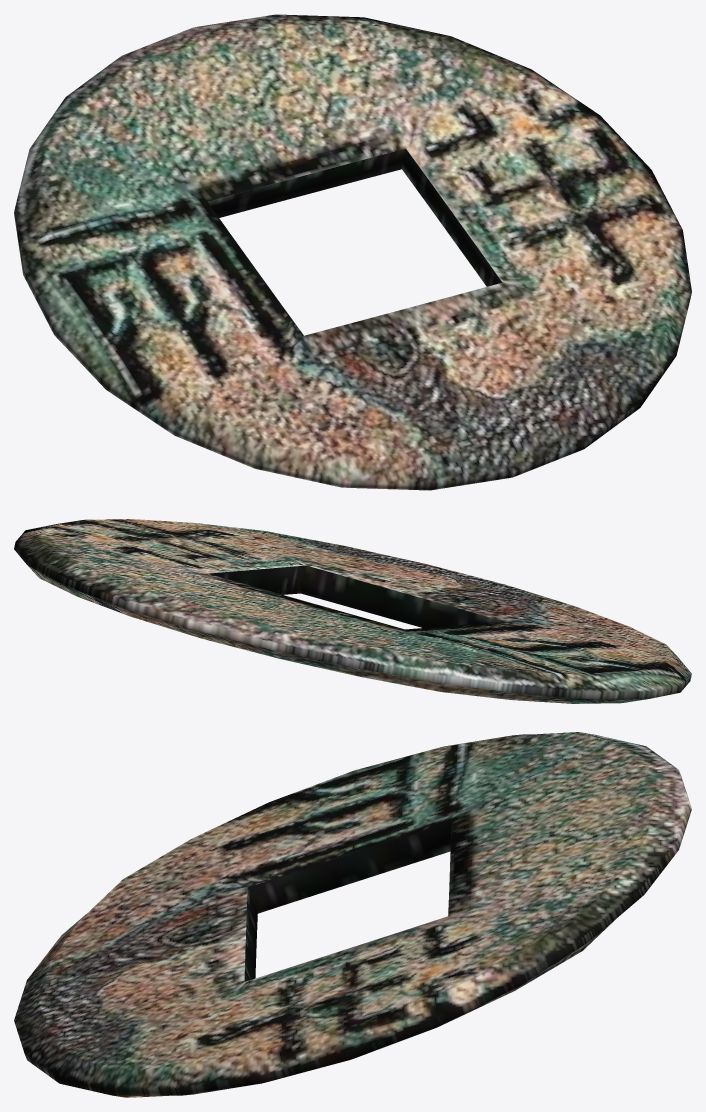
File: banliangqian.glb
3 views of the same model, one above another, from view 1: azimuth 30°, elevation 25°; view 2: azimuth 150°, elevation 25°; view 3: azimuth 270°, elevation 25° (orthographic). The views are drawn at different scales.
Parts seen in each view (by area): view 1: Cylinder001; view 2: Cylinder001; view 3: Cylinder001.
Part boxes in pixels (x1=…): Cylinder001: x1=14, y1=14, x2=691, y2=490; Cylinder001: x1=14, y1=519, x2=691, y2=703; Cylinder001: x1=14, y1=732, x2=691, y2=1097.
Size of the model in its own units: 0.0409 by 0.0143 by 0.0387.
Materials: 1 (1 with a texture image).
